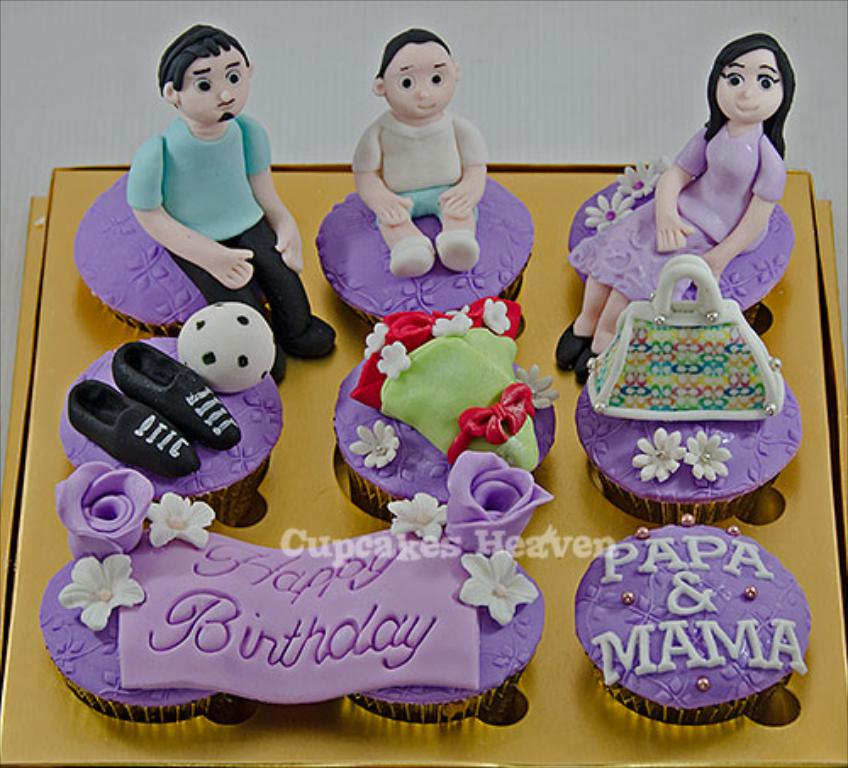Ball: (175, 305, 271, 393)
